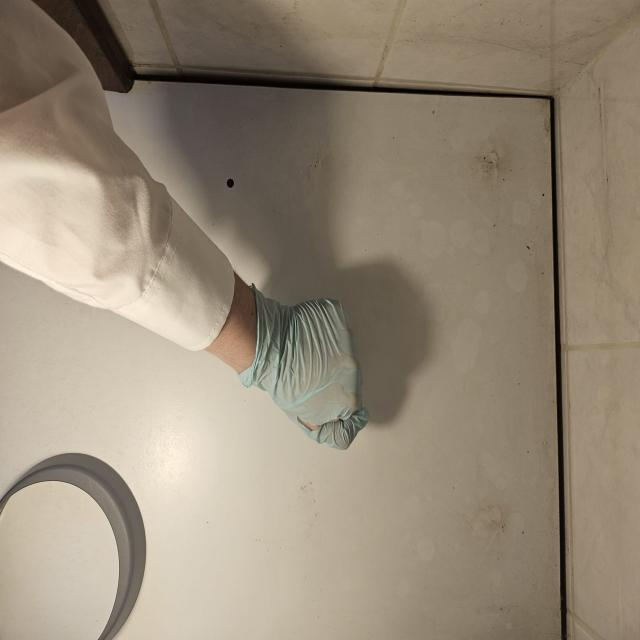gloves_damaged: (246, 280, 370, 449)
